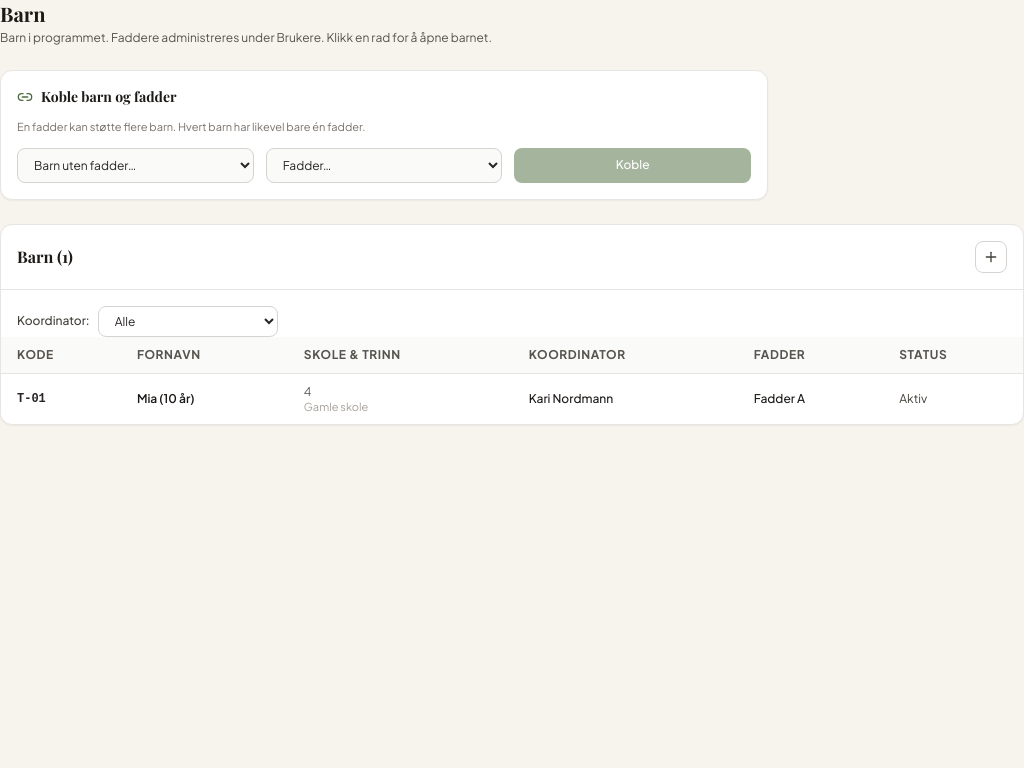
Test case: Barnesiden: åpne og gå tilbake › har fanene Oversikt, Opplysninger og Logg, med Oversikt valgt først
Step 1. Click the text "T-01" → (31, 399), box [1,373,121,424]
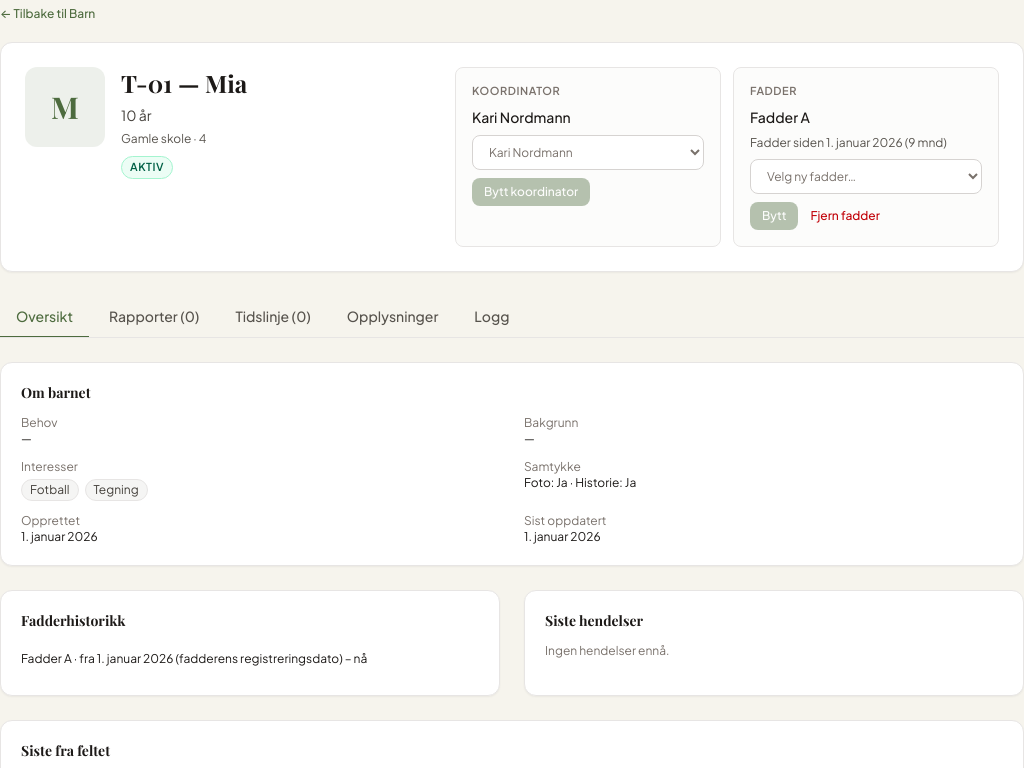
Check: the tab "Logg" is shown, box [458,296,525,338]
